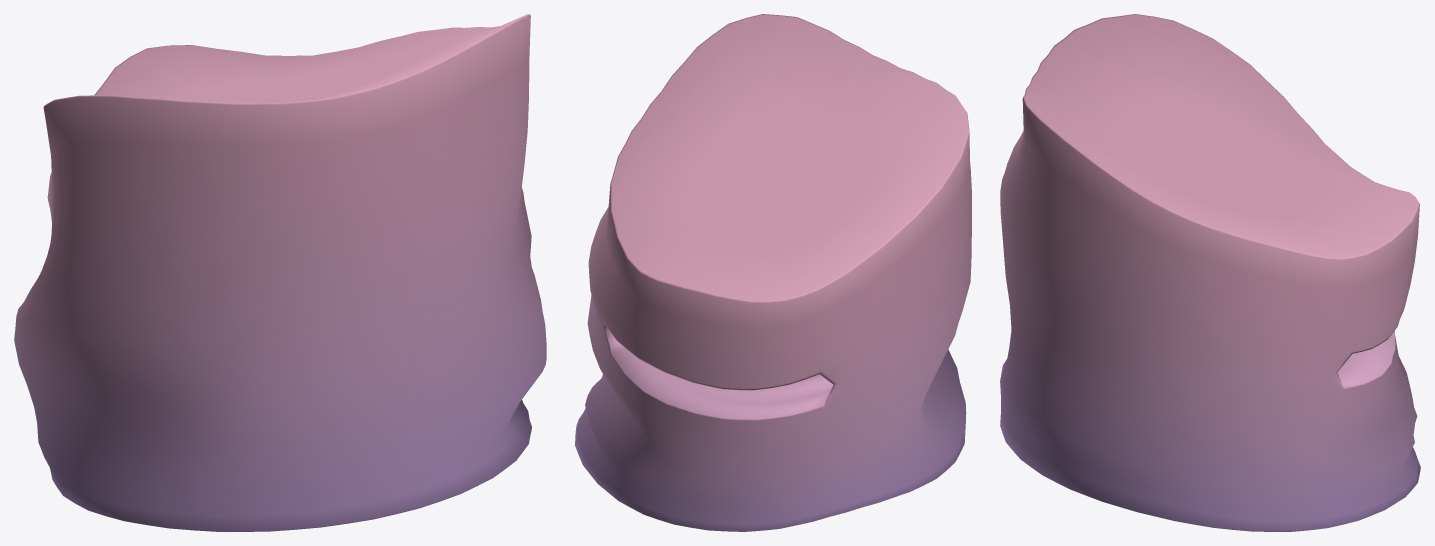
The model's file is Lixo_Amassando_4.fbx.
3 renders of one model, left to right at view 1: azimuth 30°, elevation 25°; view 2: azimuth 150°, elevation 25°; view 3: azimuth 270°, elevation 25°, orthographic. The views are drawn at different scales.
Parts seen in each view (by area): view 1: Cylinder.003; view 2: Cylinder.003; view 3: Cylinder.003.
Part boxes in pixels (bbox=[...]): Cylinder.003: bbox=[14, 14, 546, 531]; Cylinder.003: bbox=[575, 14, 971, 531]; Cylinder.003: bbox=[1000, 14, 1420, 531].
Bounding box in the file's own units: 148 × 152 × 146.
Materials: 1 (1 with a texture image).
